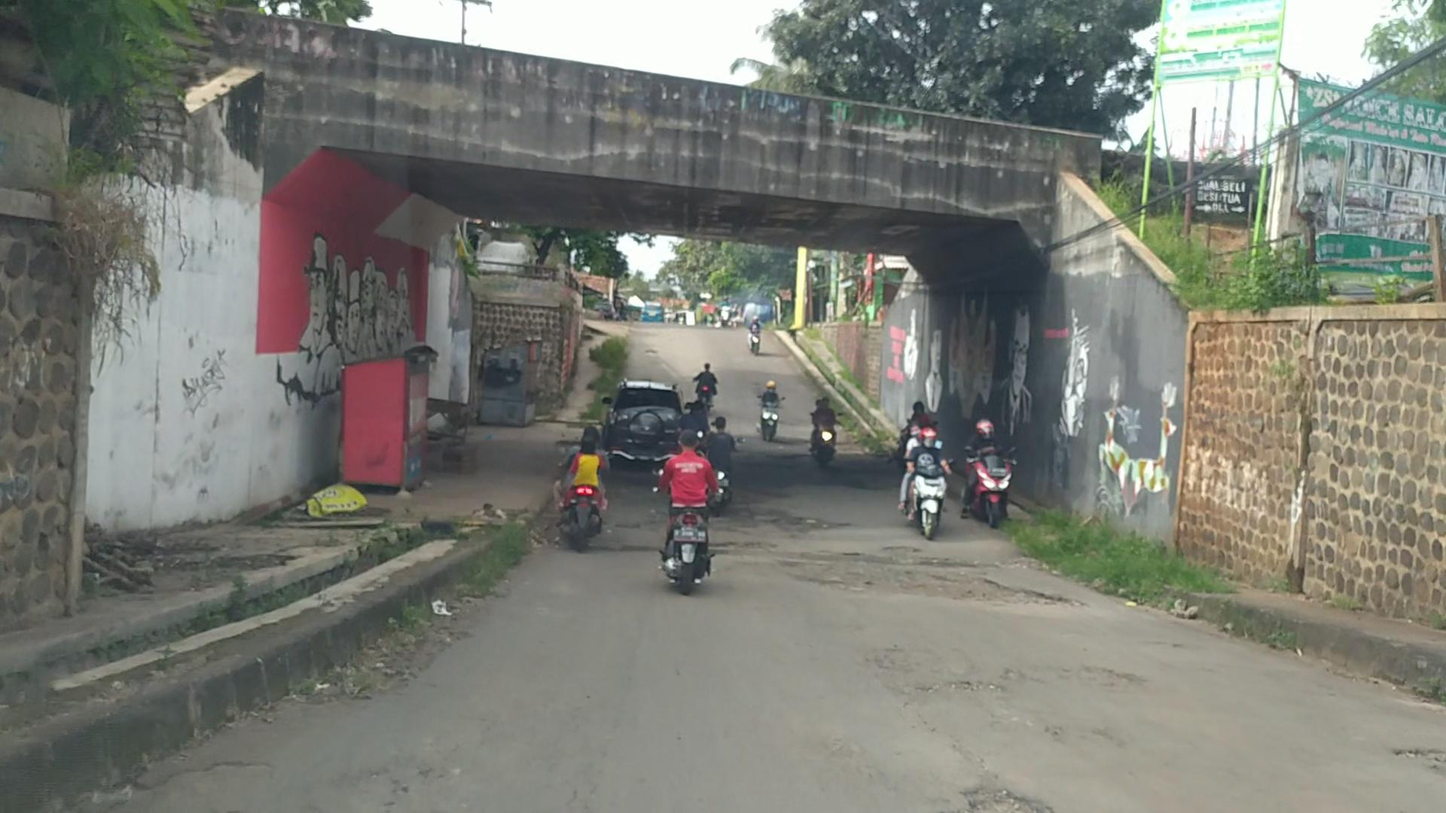pothole: (807, 543, 1077, 606), (966, 788, 1054, 811)
